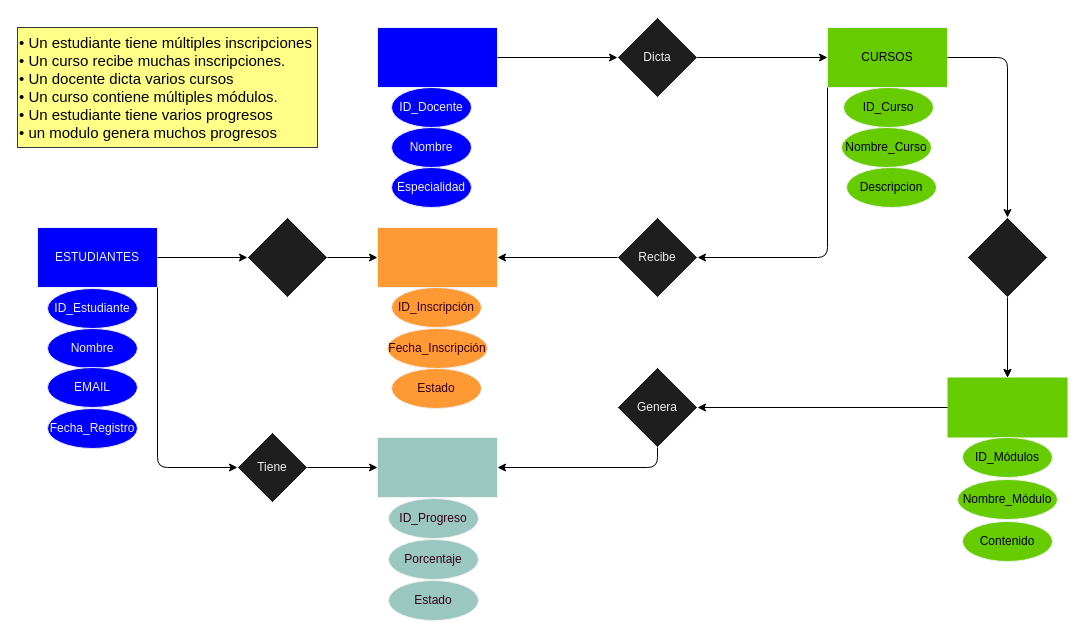
Image size: 1085x638. Some labels were removed from this diagram. The centre of each missing label's shape, as x and y in pixels:
"Contiene" belongs at point (1007, 257).
"DOCENTES" belongs at point (437, 57).
"INSCRIPCIONES" belongs at point (437, 257).
"MODULOS" belongs at point (1007, 407).
"PROGRESO" belongs at point (437, 467).
"Realiza" belongs at point (287, 257).
